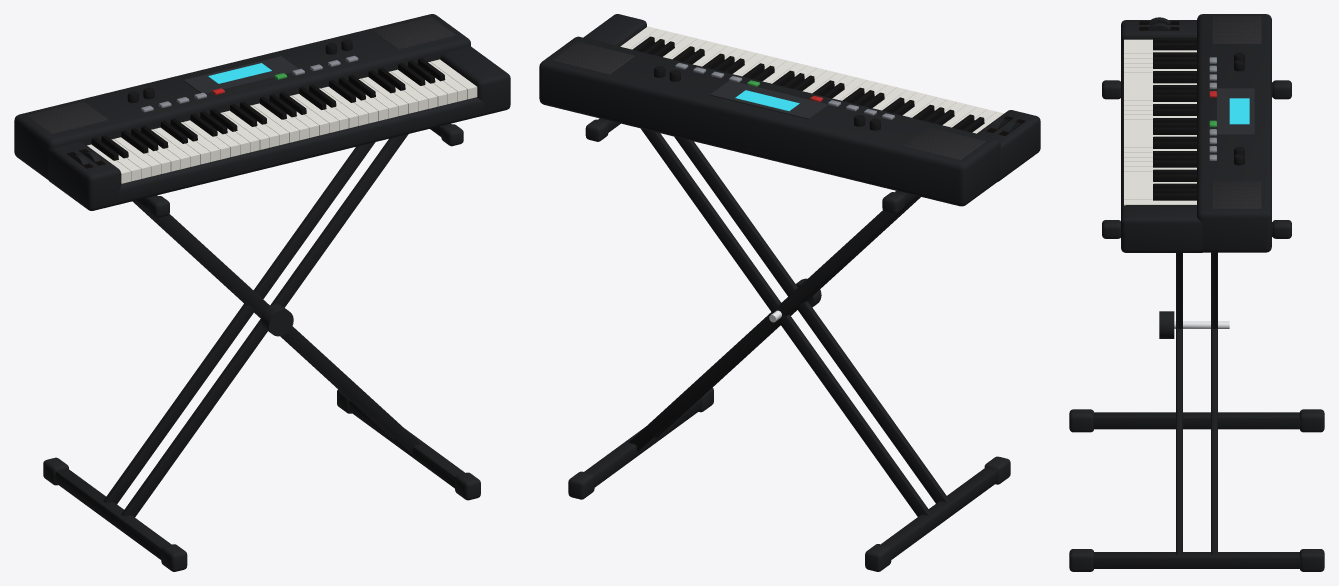
The model's file is keyboard.glb.
The picture shows the model from 3 angles, left to right: view 1: azimuth 30°, elevation 25°; view 2: azimuth 150°, elevation 25°; view 3: azimuth 270°, elevation 25°; orthographic projection. The views are drawn at different scales.
Parts seen in each view (by area): view 1: Keyboard_On_Stand; view 2: Keyboard_On_Stand; view 3: Keyboard_On_Stand.
Part boxes in pixels (x1,y1,x2,y2): Keyboard_On_Stand: (14, 14, 510, 571); Keyboard_On_Stand: (539, 14, 1040, 571); Keyboard_On_Stand: (1069, 14, 1324, 571).
Bounding box in the file's own units: 0.95 × 0.87 × 0.51.
Materials: 15 (1 with a texture image).
